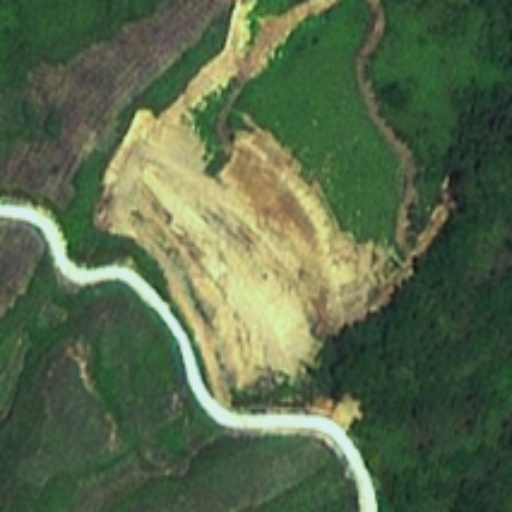landslide: (105, 109, 387, 391)
